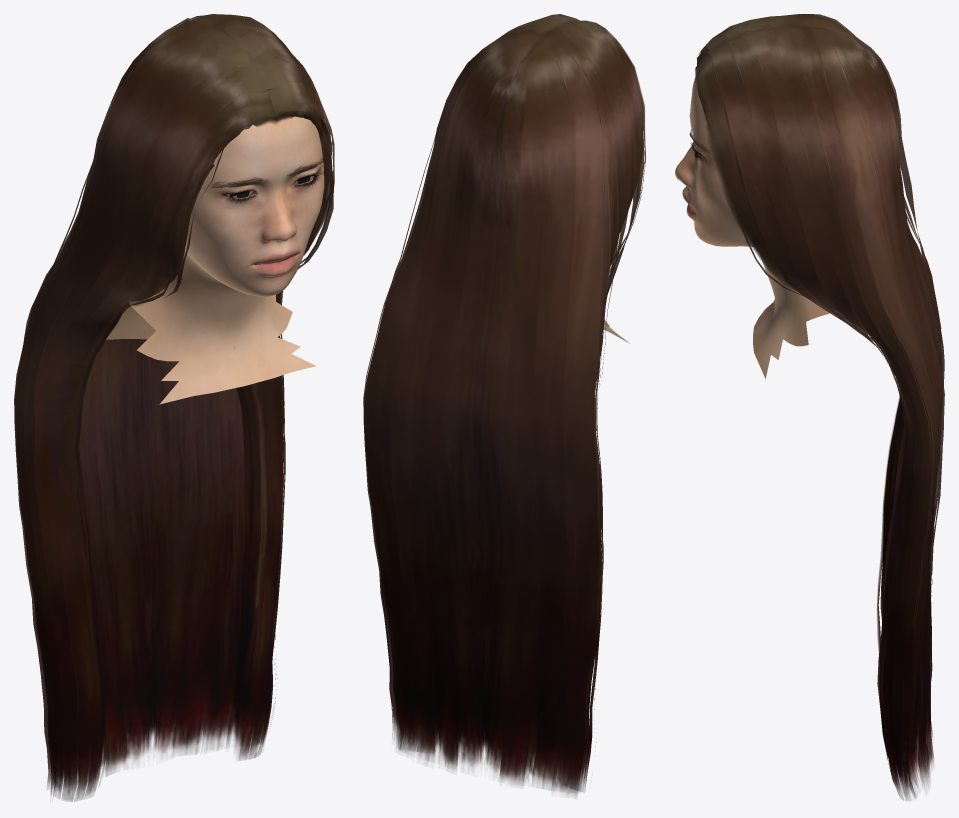
File: patient07.glb
3 views of the same model, side by side, from view 1: azimuth 30°, elevation 25°; view 2: azimuth 150°, elevation 25°; view 3: azimuth 270°, elevation 25° (orthographic). The views are drawn at different scales.
Parts seen in each view (by area): view 1: han_mimo.long01, han_mimo.body; view 2: han_mimo.long01; view 3: han_mimo.long01, han_mimo.body.
Boxes of the visible parts, <box> form: han_mimo.long01: <box>14,14,334,801</box>; han_mimo.body: <box>106,116,324,404</box>; han_mimo.long01: <box>363,14,645,796</box>; han_mimo.long01: <box>695,14,944,800</box>; han_mimo.body: <box>675,75,829,378</box>.
Bounding box in the file's own units: 0.2434 × 0.6974 × 0.2307.
Materials: 8 (7 with a texture image).
